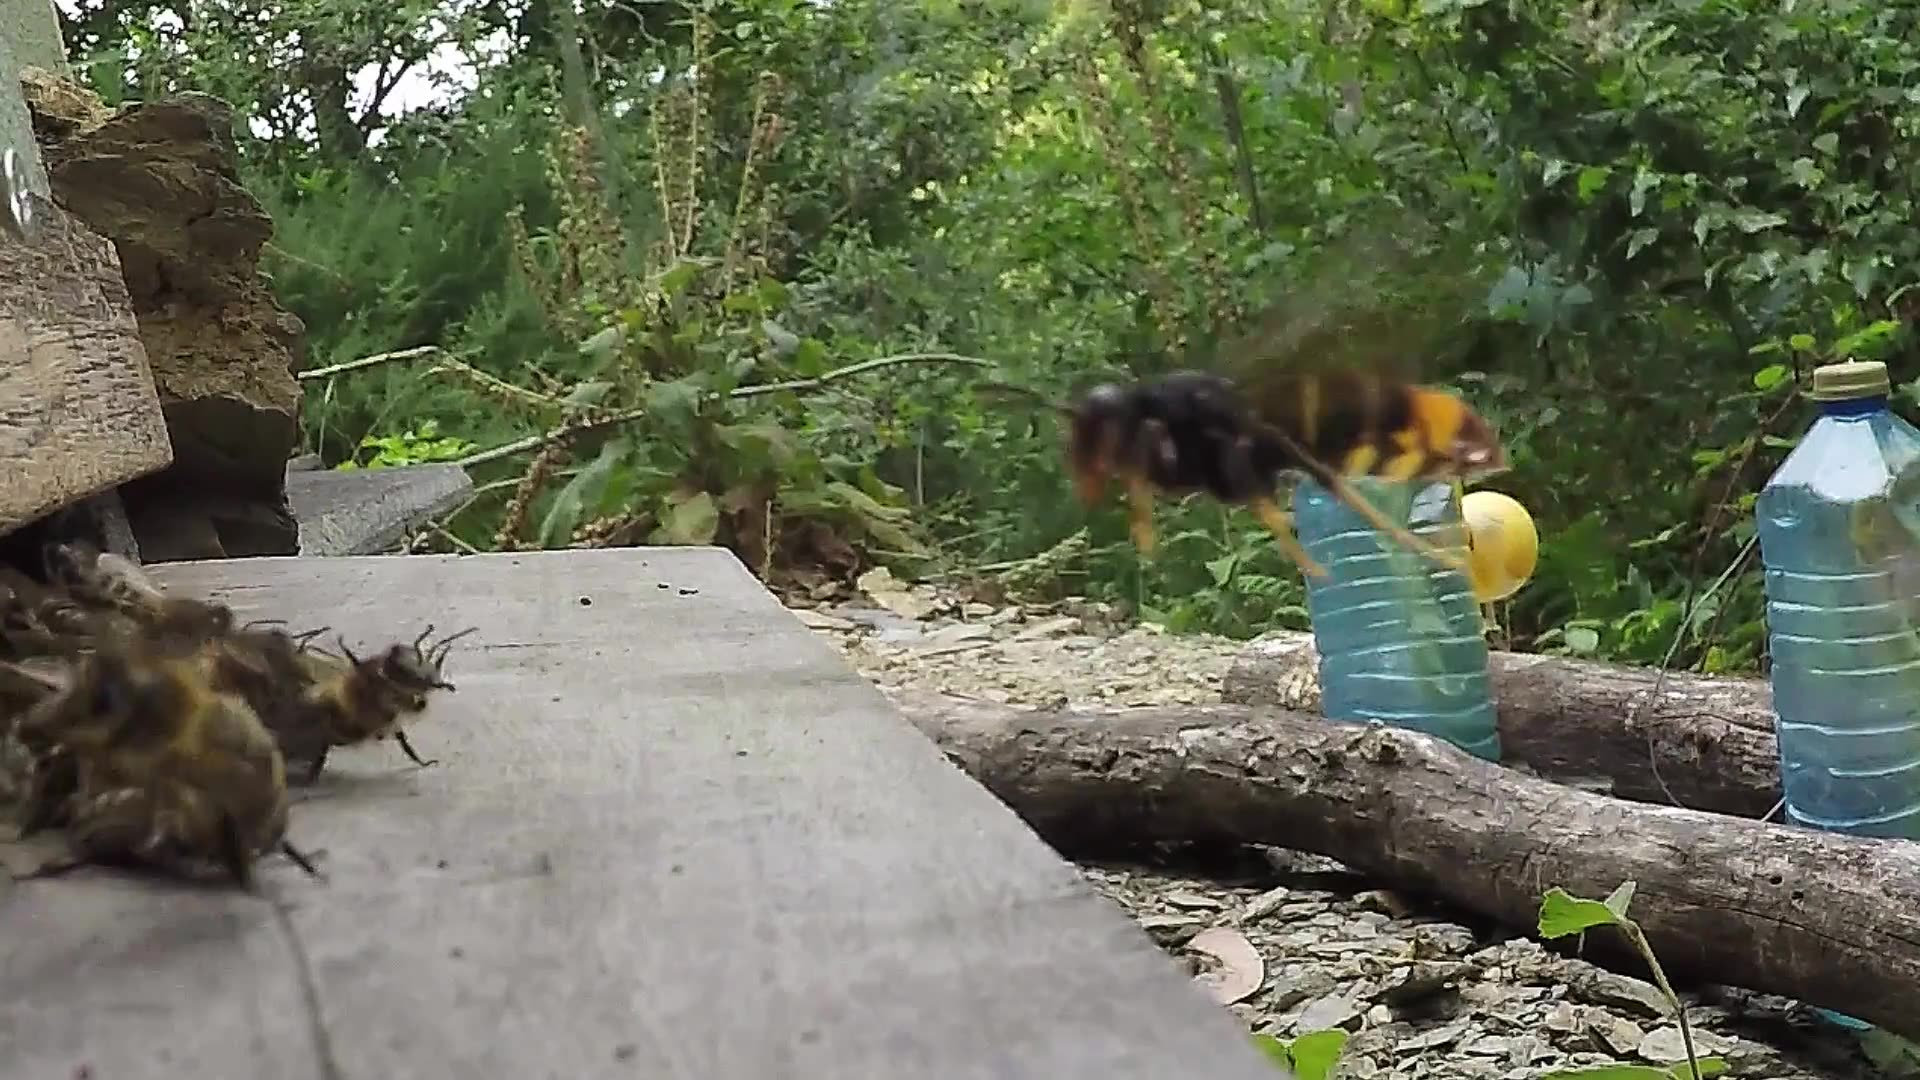bee: (1, 521, 310, 880), (302, 607, 458, 777)
hornet: (1050, 335, 1474, 555)
